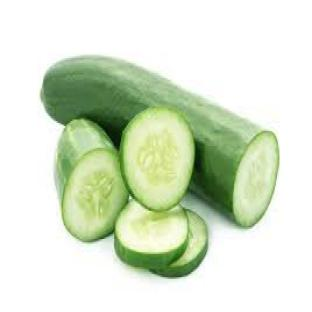Cucumber: (41, 57, 279, 225), (55, 120, 128, 240), (120, 107, 194, 210), (115, 200, 188, 268), (153, 210, 208, 277)
